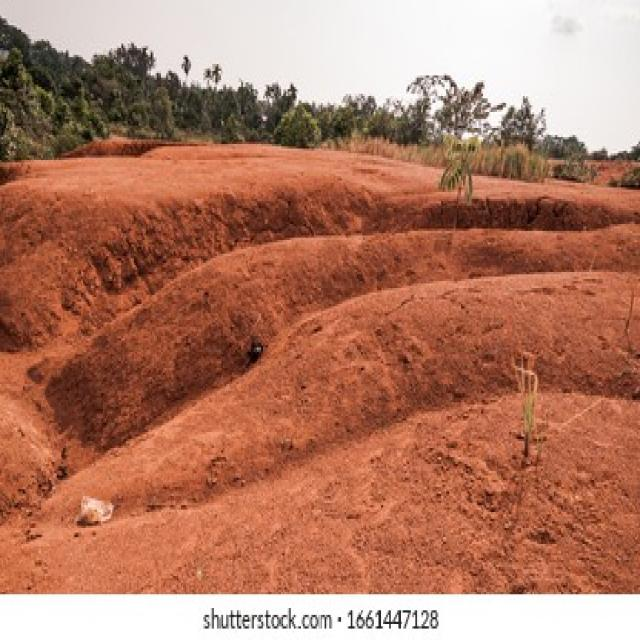Red Soil: (32, 192, 374, 564), (474, 237, 622, 364)
